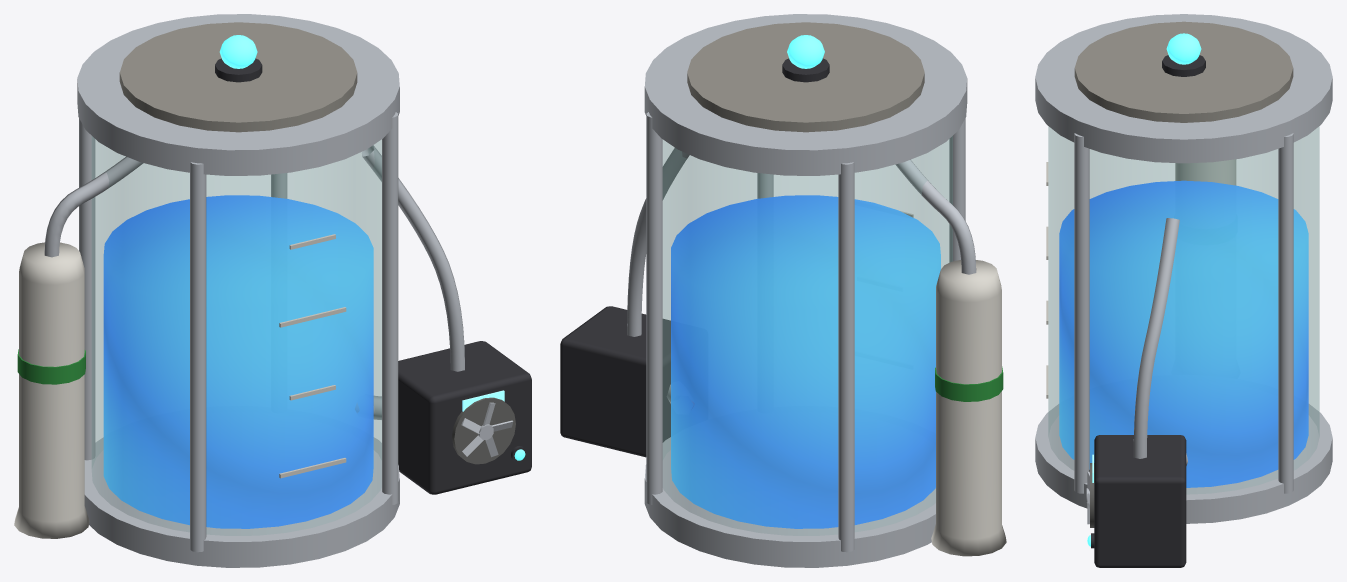
Rendered from station_W.glb.
The picture shows the model from 3 angles, left to right: view 1: azimuth 30°, elevation 25°; view 2: azimuth 150°, elevation 25°; view 3: azimuth 270°, elevation 25°; orthographic projection. The views are drawn at different scales.
Parts seen in each view (by area): view 1: tank, water, station_W_steel, lid, station_W_white, station_W_graph, fan_ring, filter_band, station_W_led_blue, anim_fan_steel; view 2: tank, water, station_W_steel, lid, station_W_white, station_W_graph, filter_band, station_W_led_blue; view 3: tank, water, station_W_steel, lid, station_W_graph, station_W_white, station_W_led_blue.
Boxes of the visible parts, x1,y1,x2,y2 form: tank: [92, 136, 381, 535]; water: [103, 195, 373, 528]; station_W_steel: [44, 14, 464, 567]; lid: [119, 22, 357, 132]; station_W_white: [14, 234, 346, 538]; station_W_graph: [215, 58, 531, 494]; fan_ring: [452, 397, 515, 464]; filter_band: [17, 349, 85, 384]; station_W_led_blue: [219, 35, 525, 460]; anim_fan_steel: [461, 402, 513, 457]; tank: [663, 136, 952, 535]; water: [671, 195, 940, 528]; station_W_steel: [627, 14, 976, 567]; lid: [687, 22, 924, 132]; station_W_white: [900, 211, 1006, 556]; station_W_graph: [560, 58, 829, 457]; filter_band: [935, 366, 1003, 401]; station_W_led_blue: [787, 35, 824, 68]; tank: [1048, 126, 1319, 494]; water: [1059, 180, 1308, 487]; station_W_steel: [1035, 14, 1332, 523]; lid: [1074, 21, 1293, 122]; station_W_graph: [1091, 55, 1205, 567]; station_W_white: [1046, 159, 1236, 398]; station_W_led_blue: [1087, 33, 1201, 546].
Bounding box in the file's own units: 2.21 × 2.15 × 1.36.
